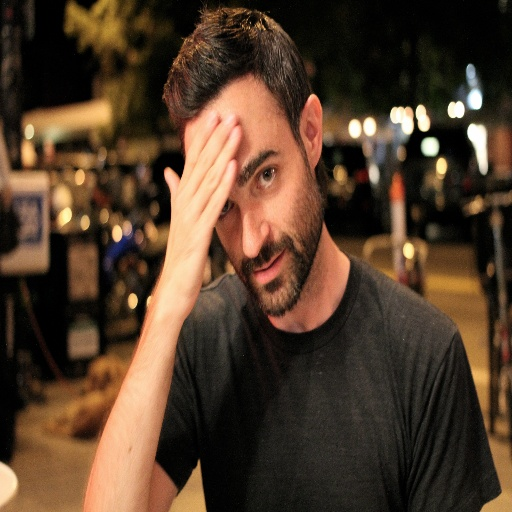hand: (134, 99, 262, 376)
